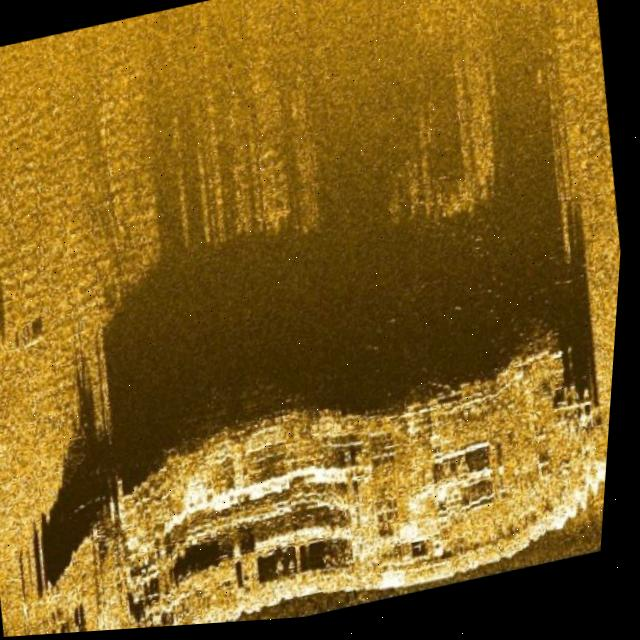shipwreck: (18, 333, 621, 637)
